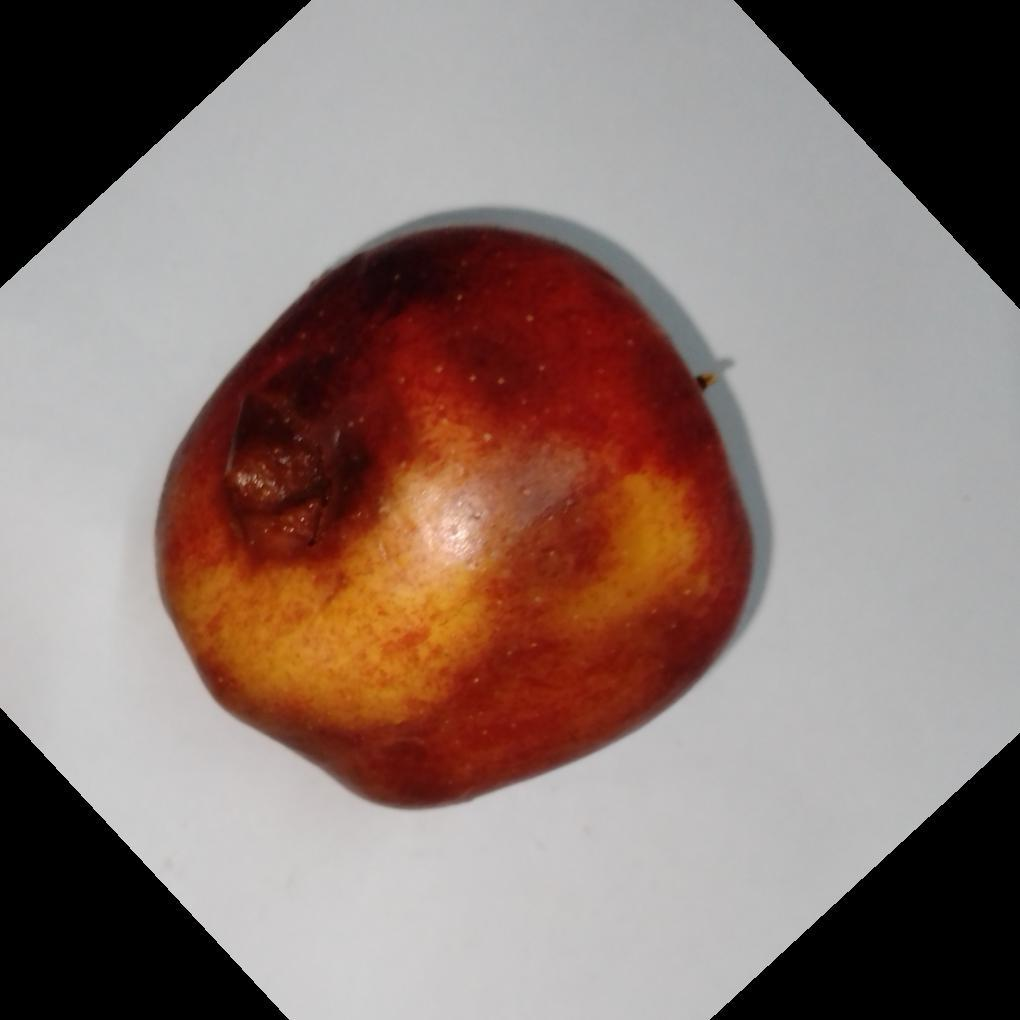FreshOrange: (153, 218, 763, 815)
